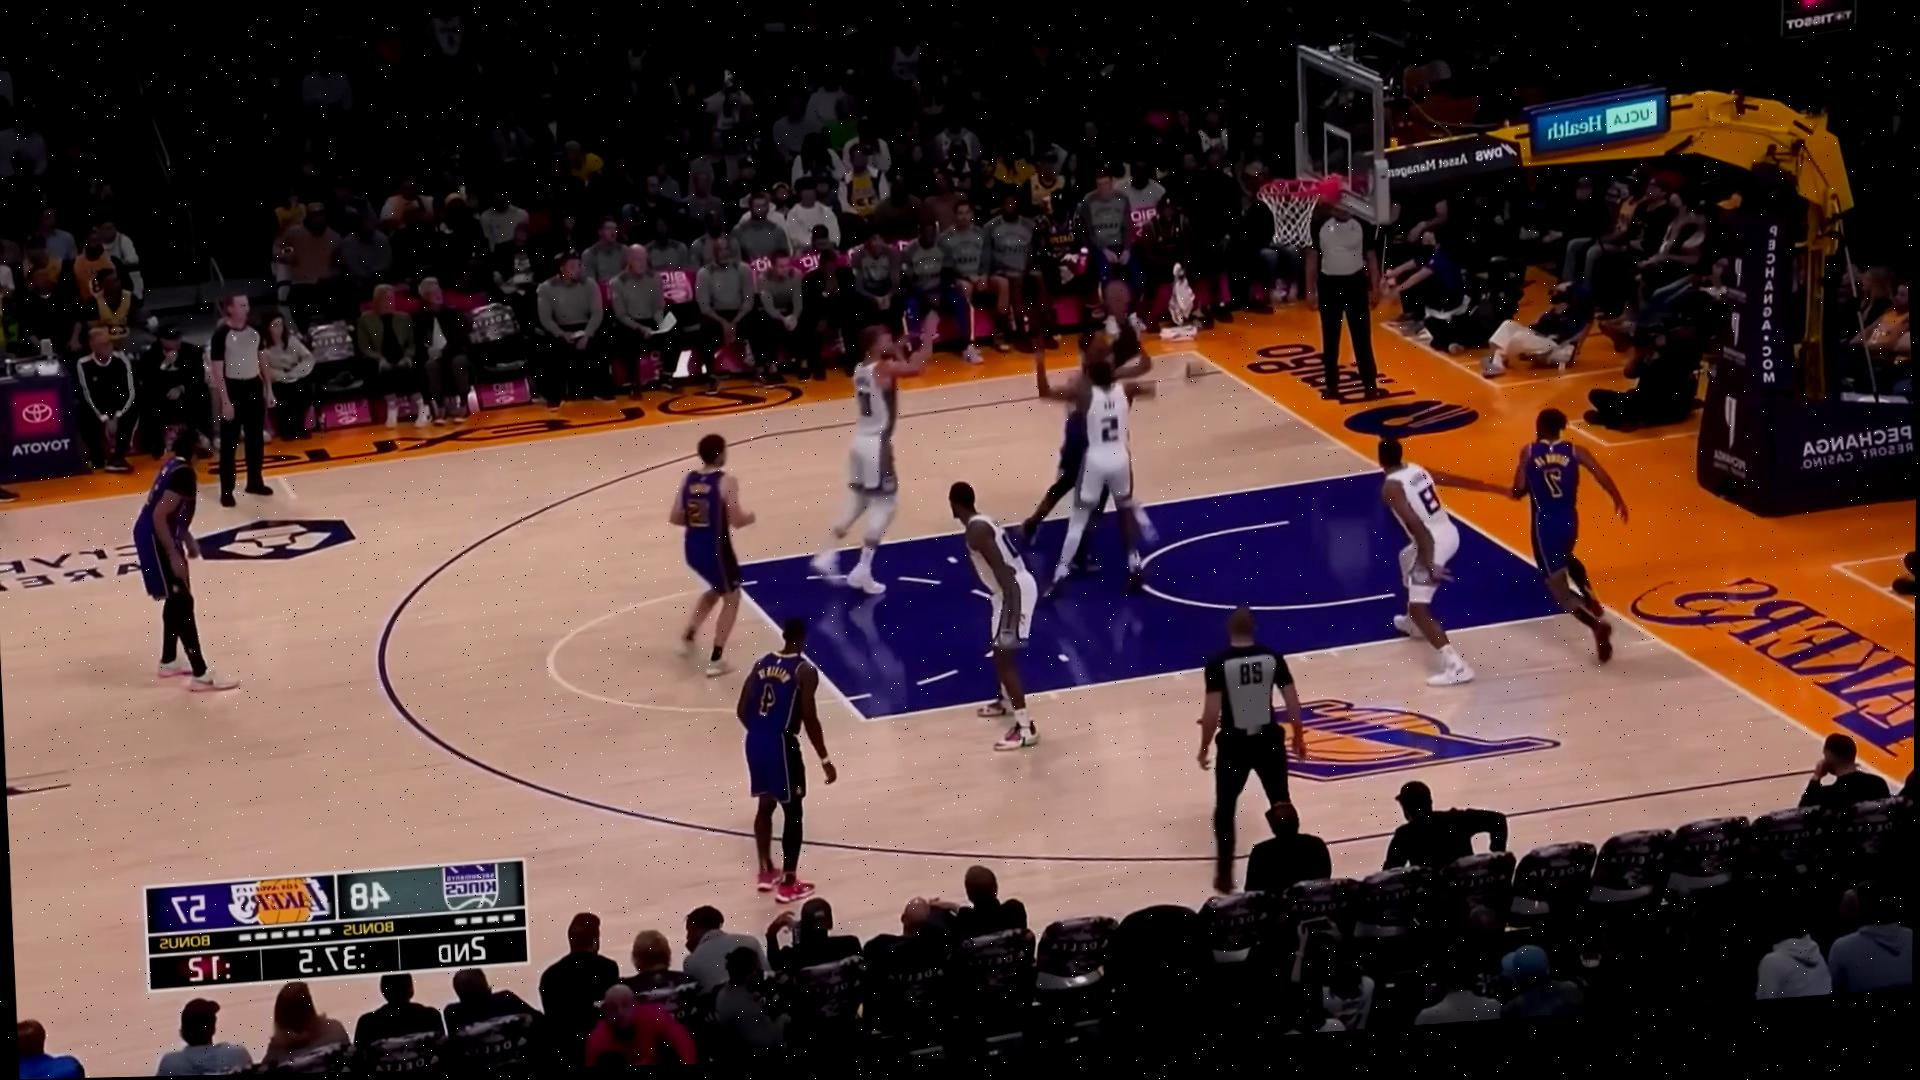foul: (1001, 291, 1204, 603)
